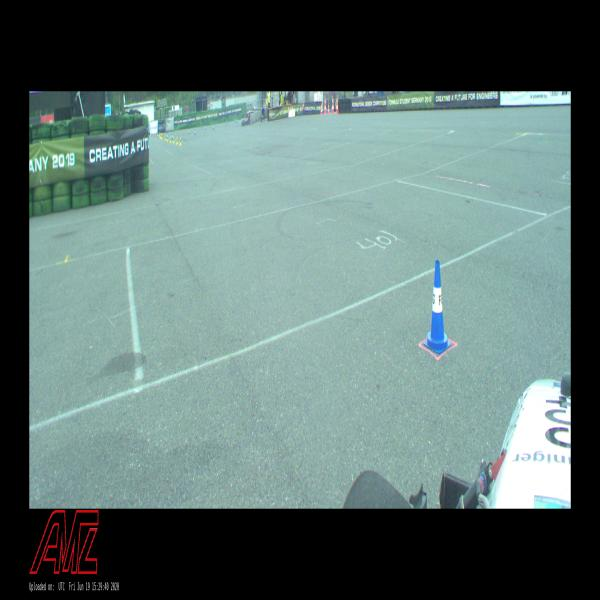blue_cone: (424, 260, 451, 354)
large_orange_cone: (336, 95, 339, 114), (332, 96, 334, 113), (324, 97, 326, 114)
yellow_cone: (180, 137, 182, 145), (176, 137, 178, 144)
